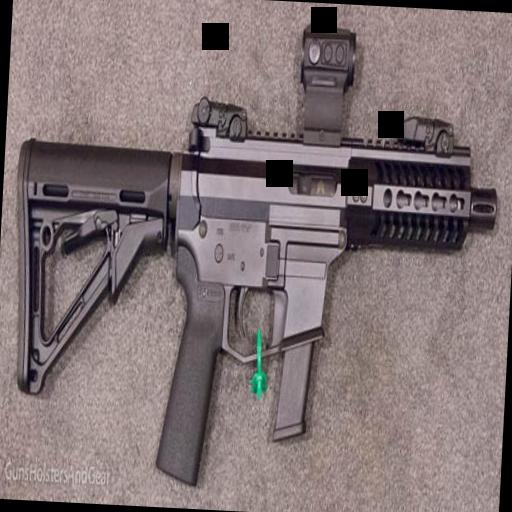Handgun: (146, 88, 502, 496)
